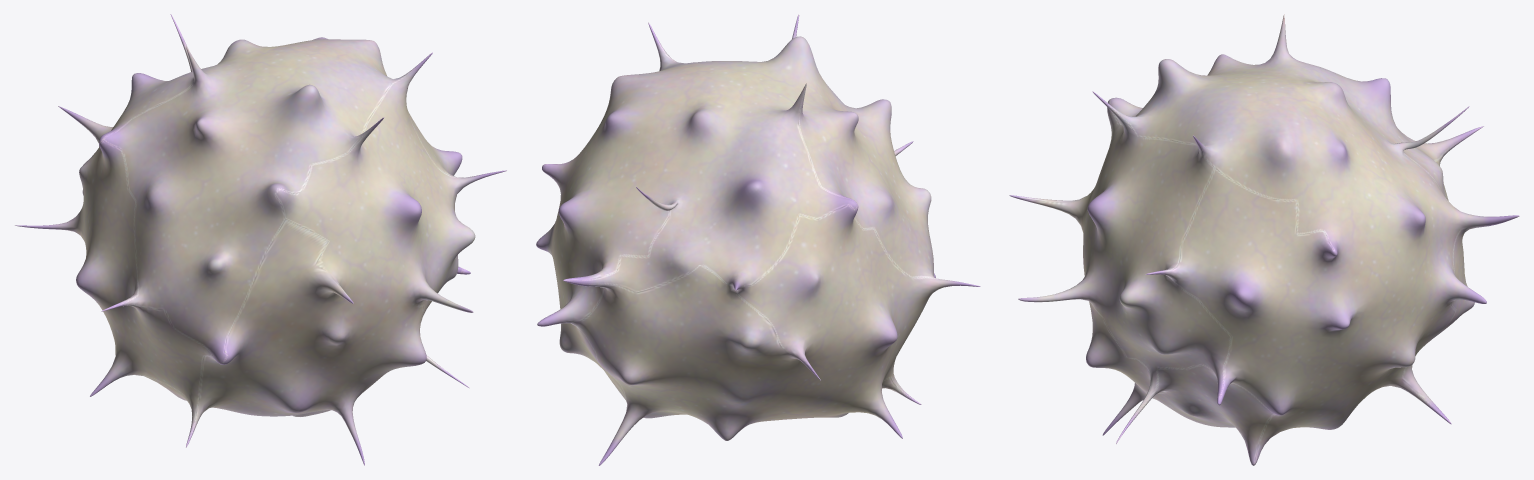
The model's file is Lymphocytes.glb.
3 views of the same model, side by side, from view 1: azimuth 30°, elevation 25°; view 2: azimuth 150°, elevation 25°; view 3: azimuth 270°, elevation 25° (orthographic).
Parts seen in each view (by area): view 1: white_blood_cell_lymphocytes_OBJ_low.001; view 2: white_blood_cell_lymphocytes_OBJ_low.001; view 3: white_blood_cell_lymphocytes_OBJ_low.001.
Boxes of the visible parts, x1,y1,x2,y2 form: white_blood_cell_lymphocytes_OBJ_low.001: (15,14,506,465); white_blood_cell_lymphocytes_OBJ_low.001: (536,14,980,465); white_blood_cell_lymphocytes_OBJ_low.001: (1009,14,1519,465).
Bounding box in the file's own units: 0.163 × 0.1525 × 0.1865.
2 materials, 2 textured.
